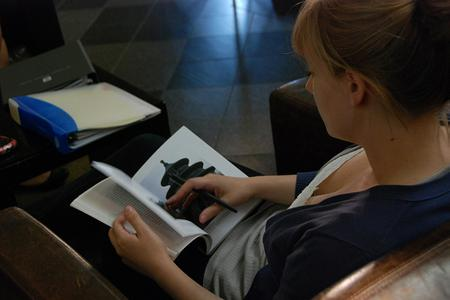person: (107, 2, 450, 299)
